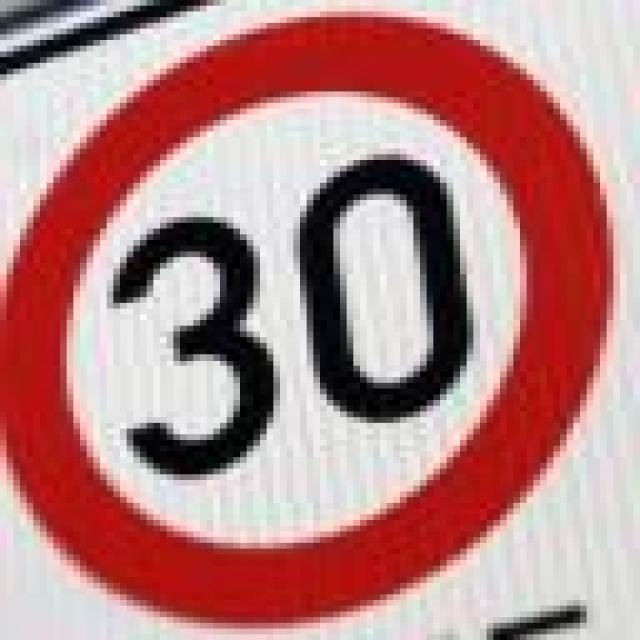Ograniczenie predkosci do 30: (0, 6, 607, 628)
